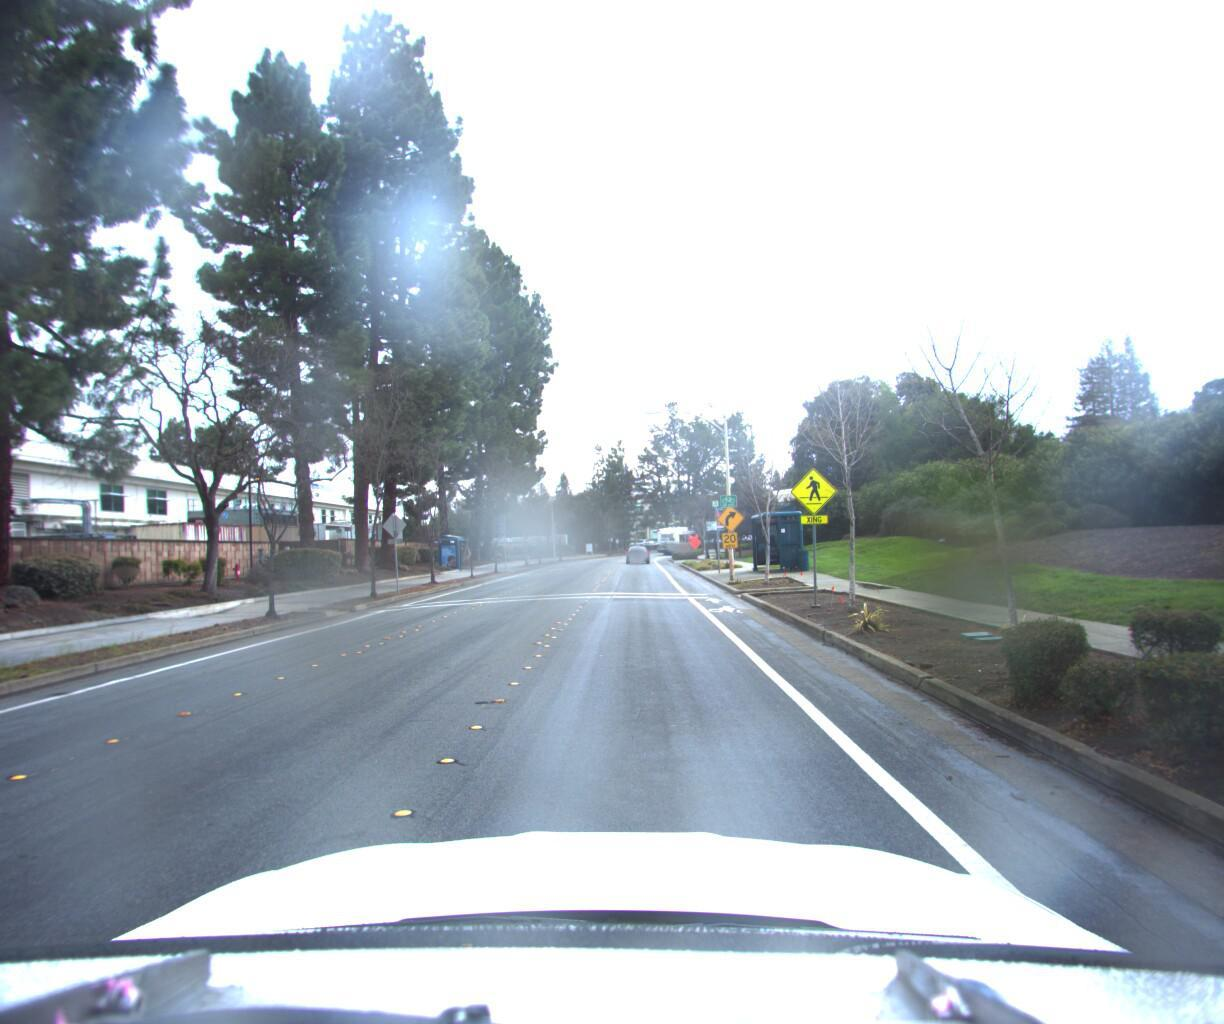car: (623, 546, 649, 568)
